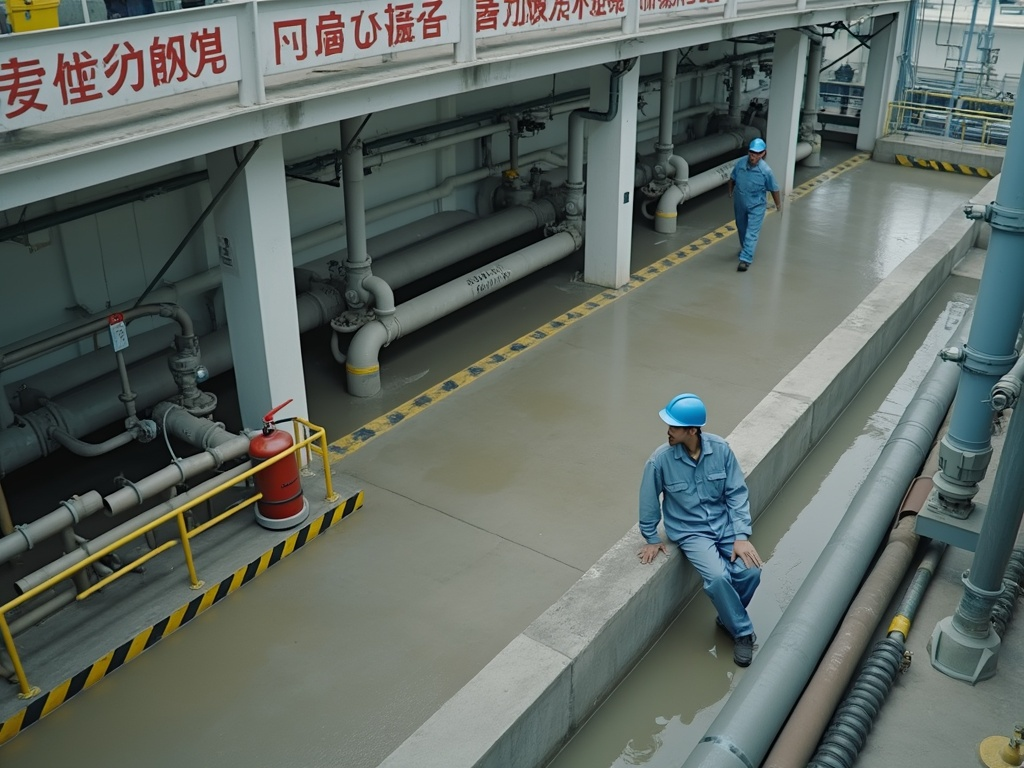safety_cap: (650, 379, 714, 434), (742, 133, 773, 157)
